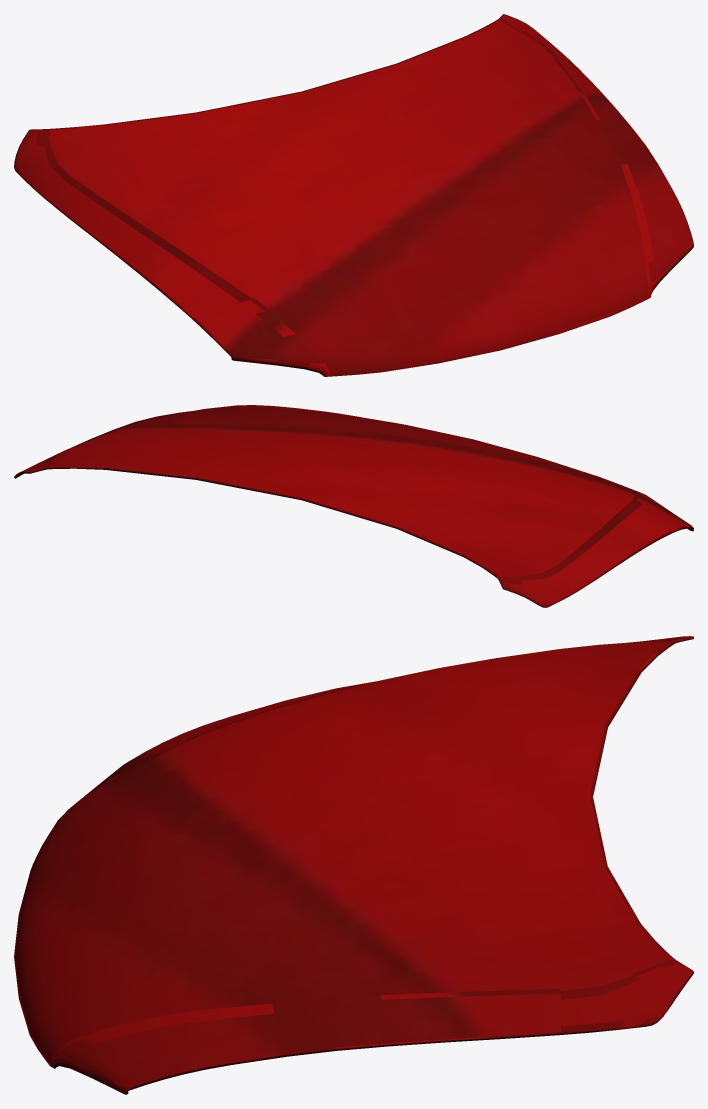
The model's file is CofreTextura.obj.
3 renders of one model, top to bottom at view 1: azimuth 30°, elevation 25°; view 2: azimuth 150°, elevation 25°; view 3: azimuth 270°, elevation 25°, orthographic. The views are drawn at different scales.
Visible parts, largest first — view 1: CofreTextura_Car_Paint_-_All_Colors; view 2: CofreTextura_Car_Paint_-_All_Colors; view 3: CofreTextura_Car_Paint_-_All_Colors.
Boxes of the visible parts, x1=… form: CofreTextura_Car_Paint_-_All_Colors: x1=14, y1=14, x2=693, y2=376; CofreTextura_Car_Paint_-_All_Colors: x1=14, y1=405, x2=693, y2=607; CofreTextura_Car_Paint_-_All_Colors: x1=14, y1=636, x2=693, y2=1094.
Size of the model in its own units: 1.67 by 0.3377 by 1.27.
1 material, 1 textured.
